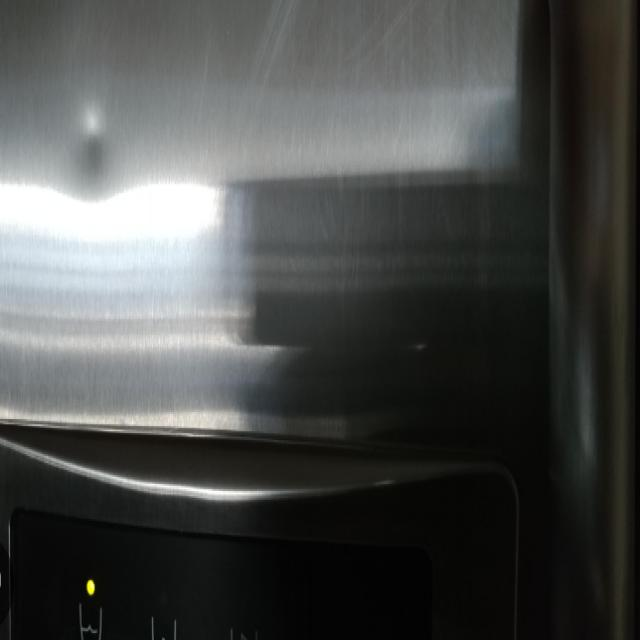dents: (66, 112, 127, 206)
